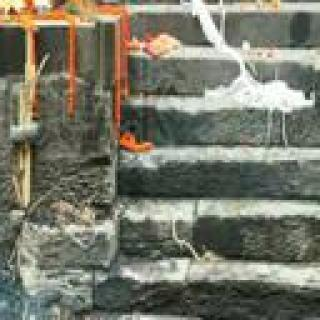fire: (0, 0, 57, 11)
